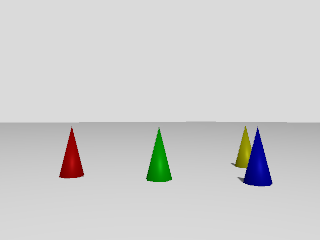blue: (244, 128, 271, 185)
green: (145, 125, 173, 182)
red: (58, 125, 85, 180)
yellow: (232, 125, 252, 167)
